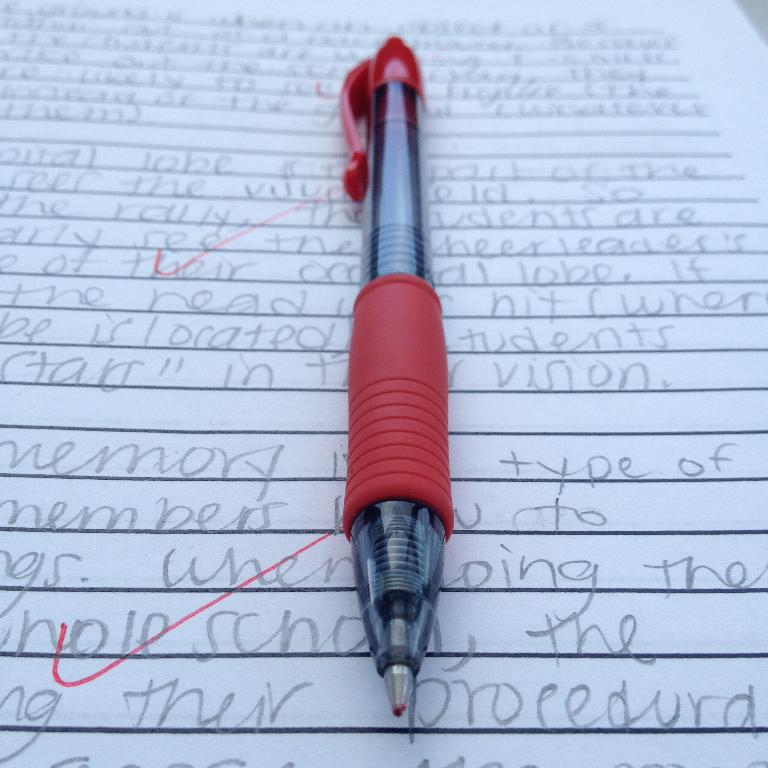Pen: (338, 31, 448, 720)
